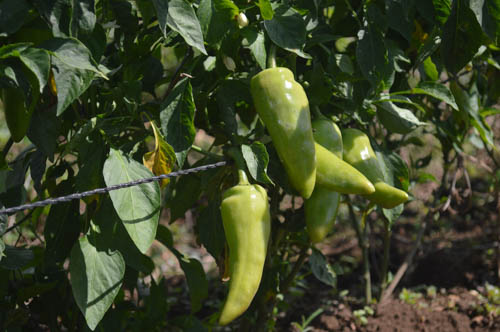ChiliPepper: (252, 68, 315, 197), (219, 185, 271, 324), (344, 129, 412, 207), (305, 118, 343, 240), (306, 146, 374, 194)
